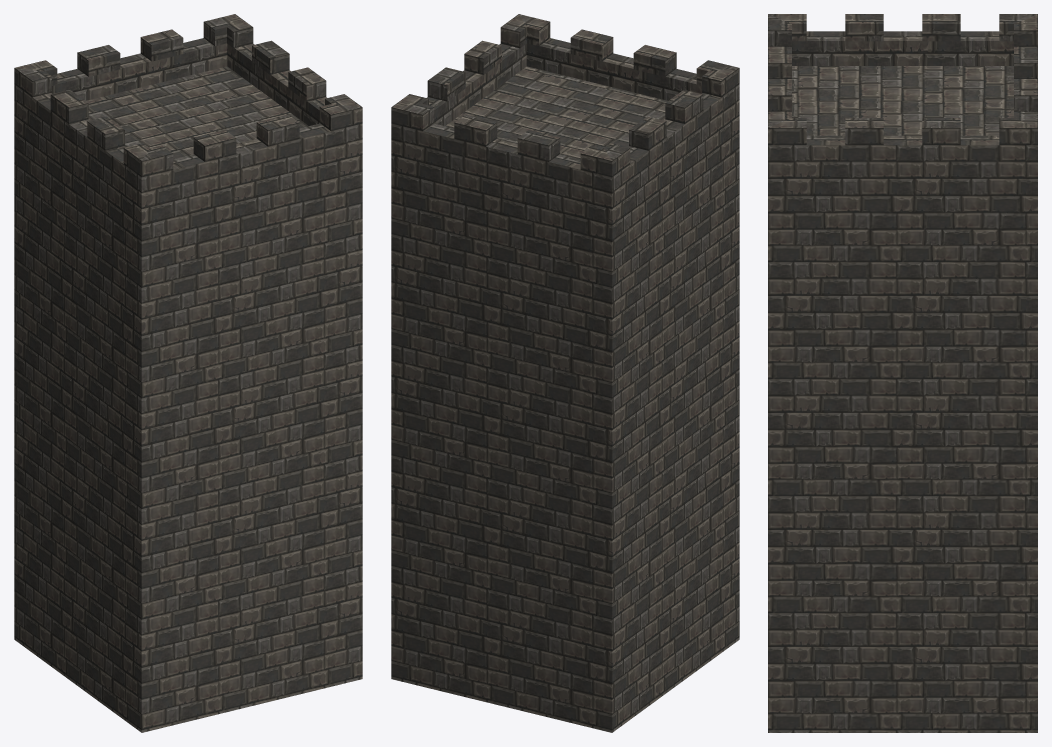
Rendered from OutdoorM_Tower_b.FBX.
3 views of the same model, side by side, from view 1: azimuth 30°, elevation 25°; view 2: azimuth 150°, elevation 25°; view 3: azimuth 270°, elevation 25° (orthographic). The views are drawn at different scales.
Visible parts, largest first — view 1: OutdoorM_Tower_b; view 2: OutdoorM_Tower_b; view 3: OutdoorM_Tower_b.
Part boxes in pixels (x1,y1,x2,y2): OutdoorM_Tower_b: [14, 14, 362, 732]; OutdoorM_Tower_b: [391, 14, 739, 732]; OutdoorM_Tower_b: [768, 14, 1037, 732].
Size of the model in its own units: 65.46 by 162 by 65.46.
